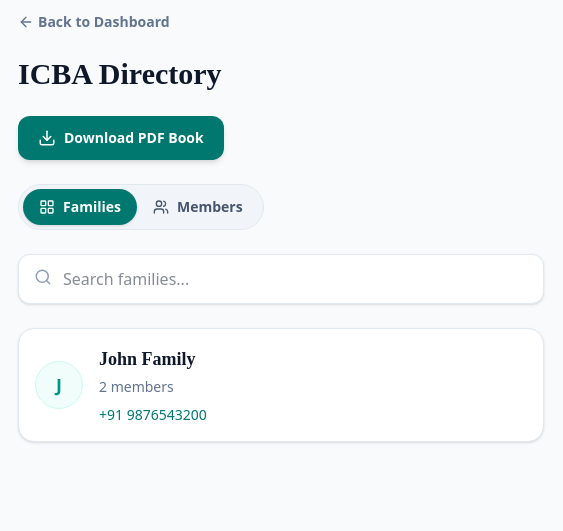
Scenario: Directory page workflows › filters families by search text
The image size is (563, 531).
Check: the heading "John Family" is shown, box [99,345,196,373]
Step 1. Type "missing" into the field with placeholder "Search families..." → [281, 279], box [18,254,544,304]
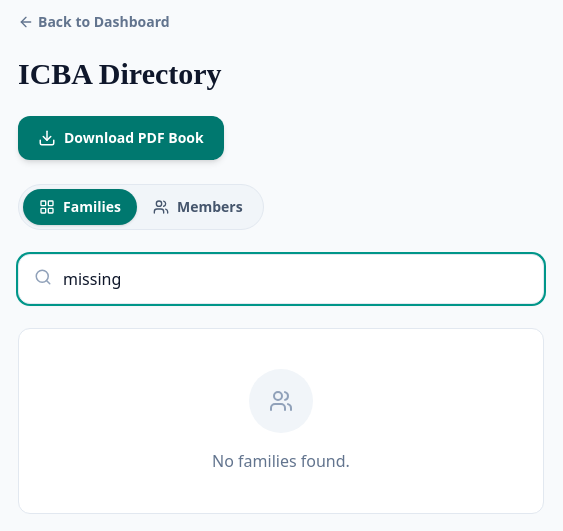
Check: the text "No families found." is shown, box [212,450,350,472]
